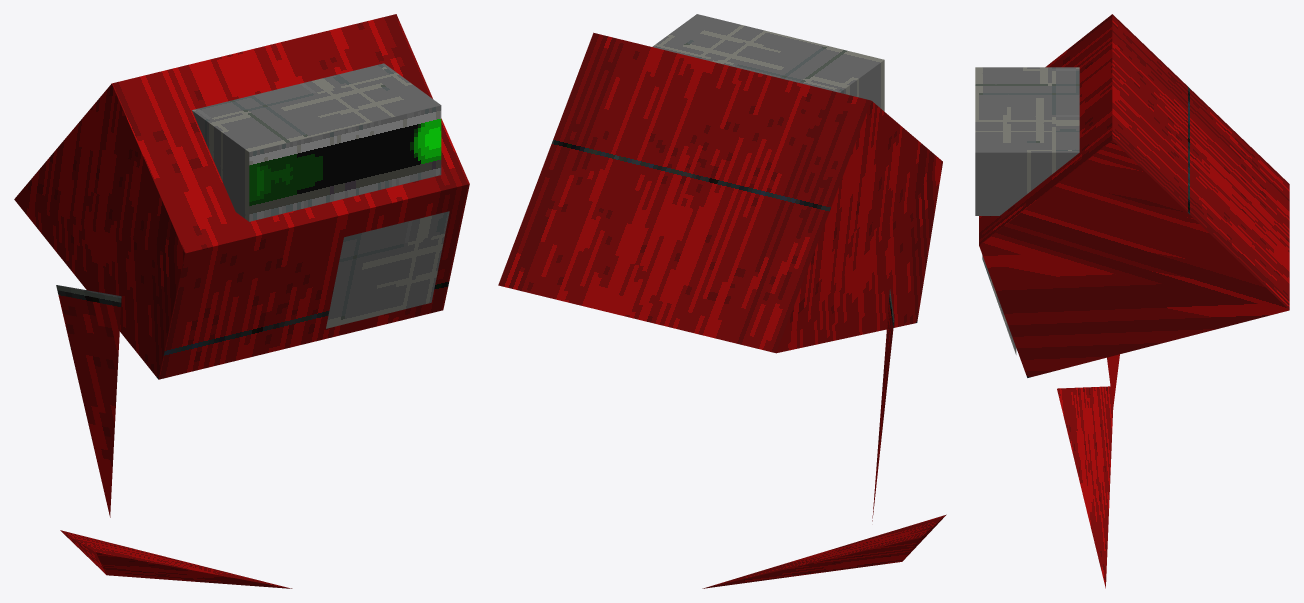
Rendered from model_016_robot_noname.glb.
3 renders of one model, left to right at view 1: azimuth 30°, elevation 25°; view 2: azimuth 150°, elevation 25°; view 3: azimuth 270°, elevation 25°, orthographic. The views are drawn at different scales.
Visible parts, largest first — view 1: model_016; view 2: model_016; view 3: model_016.
Part boxes in pixels (x1,y1,x2,y2): model_016: (14,14,469,588); model_016: (498,14,946,588); model_016: (975,14,1289,588).
Bounding box in the file's own units: 5.15 × 8 × 4.6.
4 materials, 4 textured.
